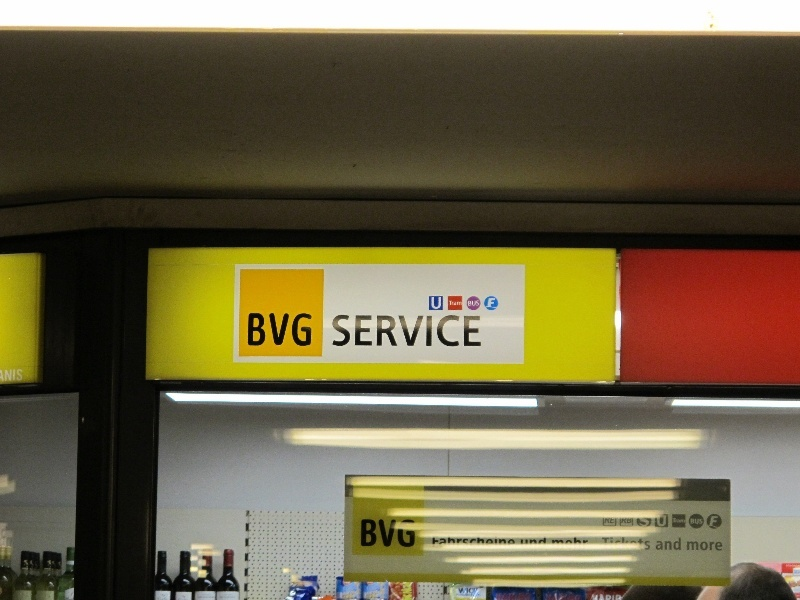text: (465, 315, 481, 347), (257, 313, 272, 347), (273, 313, 288, 347), (289, 313, 304, 347), (337, 315, 352, 347), (353, 315, 368, 347), (369, 315, 384, 347), (385, 315, 400, 347), (401, 315, 416, 347), (417, 315, 432, 347), (433, 315, 448, 347), (449, 315, 464, 347), (369, 519, 384, 548), (385, 519, 400, 548), (401, 519, 415, 548), (249, 313, 256, 347), (305, 313, 312, 347), (609, 536, 624, 551), (625, 536, 640, 551), (361, 519, 368, 548), (657, 538, 672, 551), (657, 515, 672, 527), (689, 542, 704, 552), (705, 542, 720, 552), (641, 536, 651, 551), (641, 514, 650, 527), (433, 297, 442, 309), (561, 537, 576, 544), (433, 538, 448, 545), (449, 538, 464, 545), (465, 538, 480, 545), (481, 538, 496, 545), (497, 538, 512, 545), (673, 538, 681, 551), (369, 590, 379, 600), (342, 590, 352, 600), (333, 315, 336, 347), (577, 537, 590, 544), (602, 536, 608, 551), (711, 516, 720, 526), (529, 538, 544, 544), (593, 594, 608, 600), (691, 518, 704, 524), (465, 588, 478, 594), (609, 594, 622, 600), (449, 301, 464, 306), (673, 518, 688, 523), (468, 301, 480, 307), (489, 298, 496, 307), (625, 517, 633, 524), (552, 537, 560, 544), (609, 517, 615, 524), (521, 538, 528, 544), (364, 590, 368, 600), (465, 593, 474, 597), (458, 588, 464, 594), (456, 593, 464, 597), (353, 590, 355, 600), (606, 517, 608, 524), (513, 538, 515, 545), (431, 297, 432, 309), (687, 542, 688, 552), (721, 542, 722, 552), (623, 517, 624, 524), (545, 538, 546, 544)
